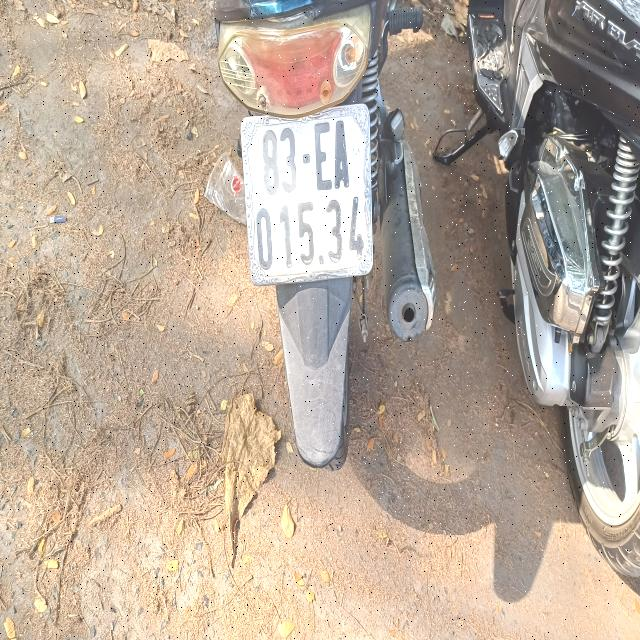0: (256, 202, 272, 268)
1: (279, 205, 294, 268)
3: (280, 127, 298, 197), (326, 201, 342, 262)
4: (348, 198, 364, 259)
5: (296, 201, 316, 264)
8: (261, 130, 280, 193)
A: (334, 119, 351, 192)
E: (314, 121, 333, 192)
